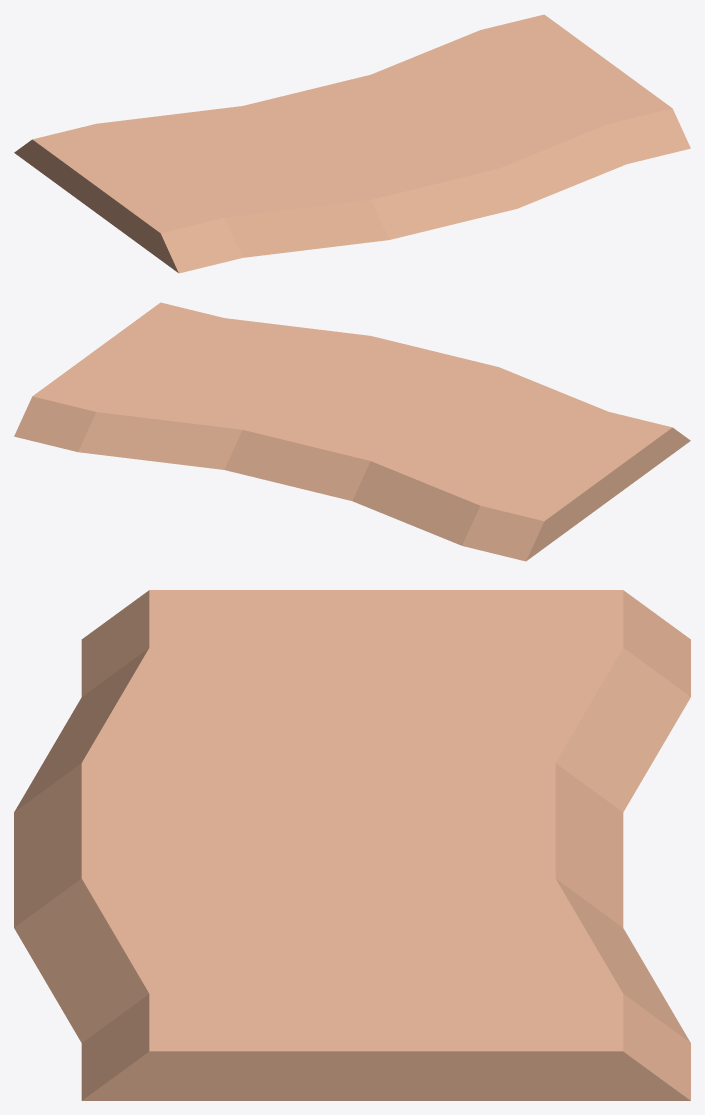
The model's file is crops_dirtRow.glb.
3 renders of one model, top to bottom at view 1: azimuth 30°, elevation 25°; view 2: azimuth 150°, elevation 25°; view 3: azimuth 270°, elevation 25°, orthographic. The views are drawn at different scales.
Parts seen in each view (by area): view 1: crops_dirtRow; view 2: crops_dirtRow; view 3: crops_dirtRow.
Boxes of the visible parts, x1,y1,x2,y2 form: crops_dirtRow: [14, 14, 690, 273]; crops_dirtRow: [14, 302, 690, 561]; crops_dirtRow: [14, 590, 690, 1100].
Bounding box in the file's own units: 1.16 × 0.0581 × 0.7202.
